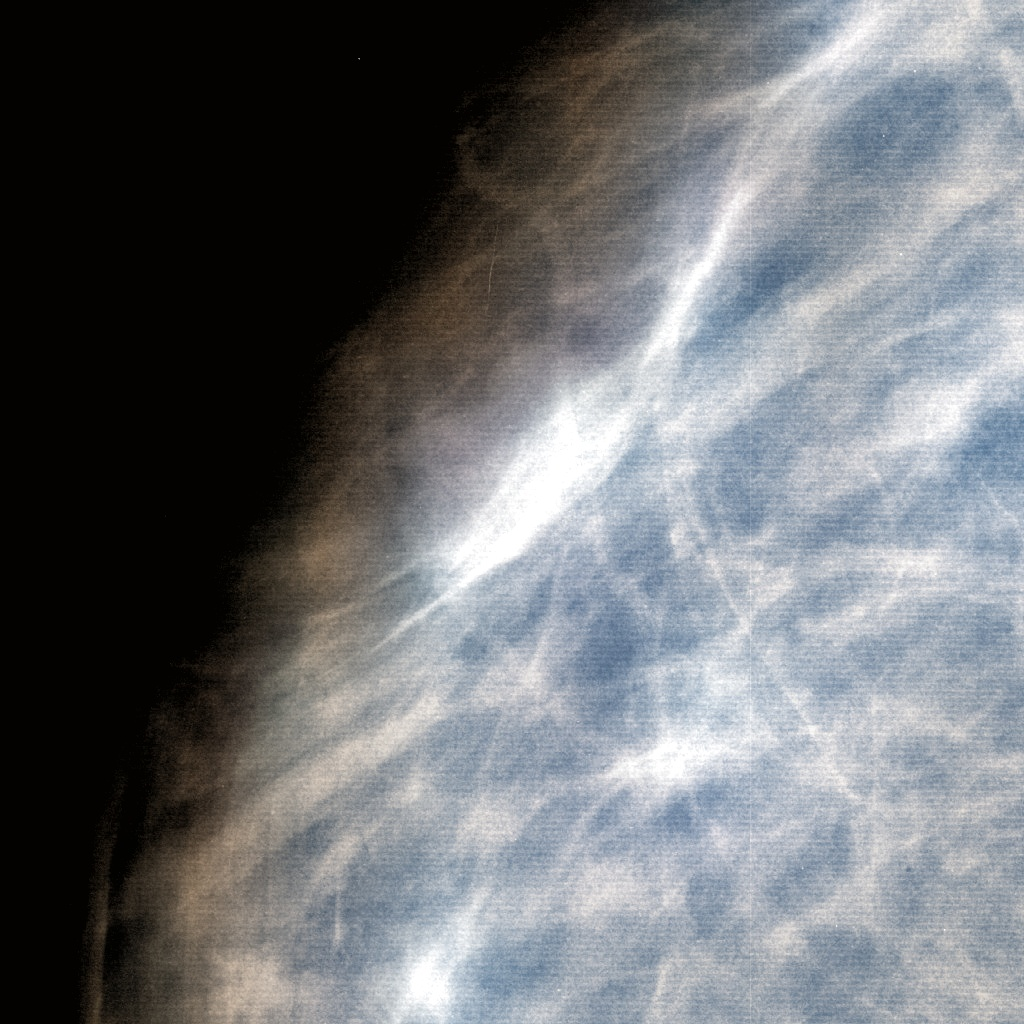tumor: (350, 327, 674, 697)
